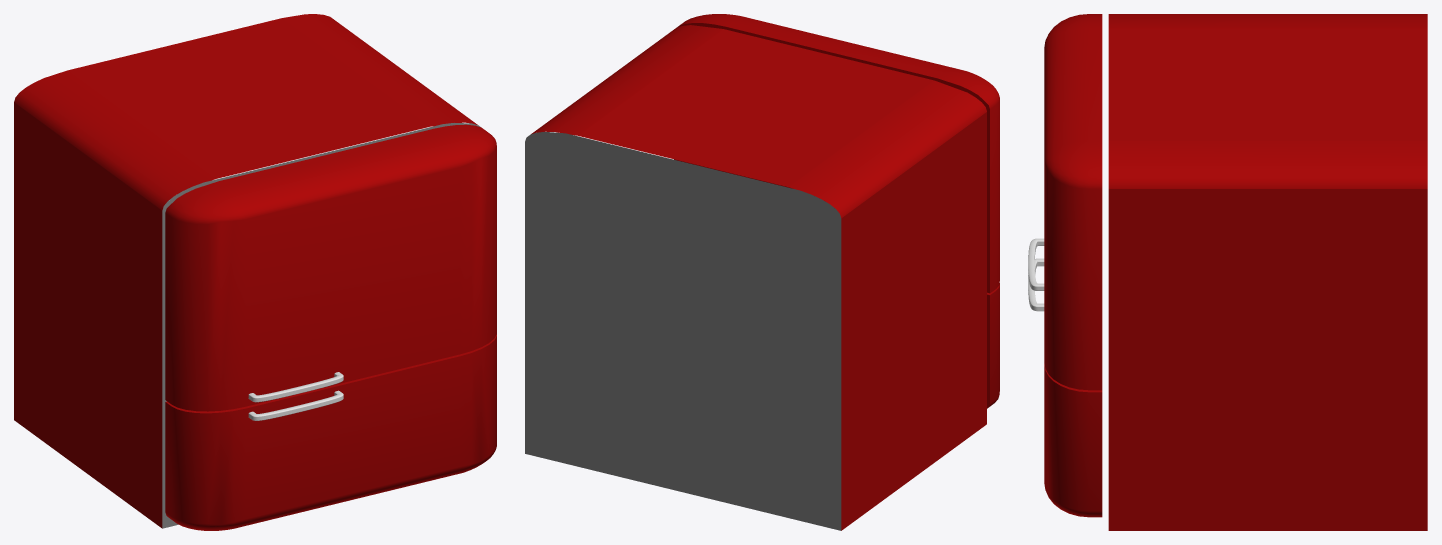
File: sh-lp-frigo.glb
3 renders of one model, left to right at view 1: azimuth 30°, elevation 25°; view 2: azimuth 150°, elevation 25°; view 3: azimuth 270°, elevation 25°, orthographic. The views are drawn at different scales.
Parts seen in each view (by area): view 1: ChamferBox03_3, Rectangle12_4, Rectangle1218_5, Loft12_1; view 2: Rectangle1218_5, Rectangle12_4, ChamferBox03_3; view 3: Rectangle12_4, ChamferBox03_3, Loft12_1.
Part boxes in pixels (<box>): ChamferBox03_3: <box>165,124,496,530</box>; Rectangle12_4: <box>14,14,477,528</box>; Rectangle1218_5: <box>162,123,480,528</box>; Loft12_1: <box>248,372,343,420</box>; Rectangle1218_5: <box>525,132,841,530</box>; Rectangle12_4: <box>531,25,986,530</box>; ChamferBox03_3: <box>674,14,999,408</box>; Rectangle12_4: <box>1108,14,1427,530</box>; ChamferBox03_3: <box>1044,14,1102,517</box>; Loft12_1: <box>1028,238,1044,311</box>.
Bounding box in the file's own units: 1 × 1 × 1.
